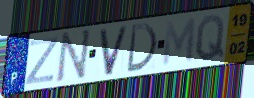D: (124, 22, 159, 74)
M: (160, 16, 197, 69)
N: (54, 27, 93, 84)
Q: (194, 13, 226, 63)
V: (98, 23, 130, 77)
Z: (24, 34, 61, 86)
